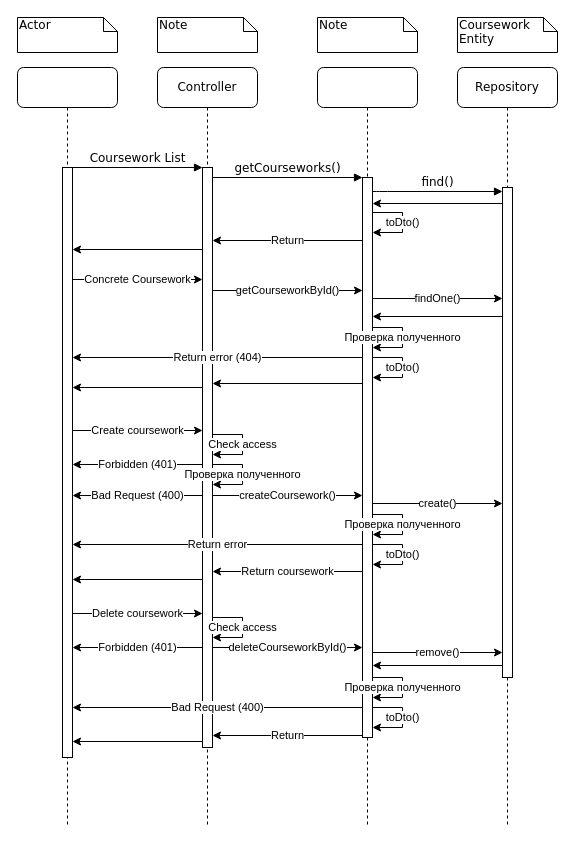
Some shapes in this 575 by 845 pixel diagram are drawn without their labels. Each missing label, with the box of its shape:
Service: (316, 66, 418, 828)
User: (16, 66, 118, 828)
